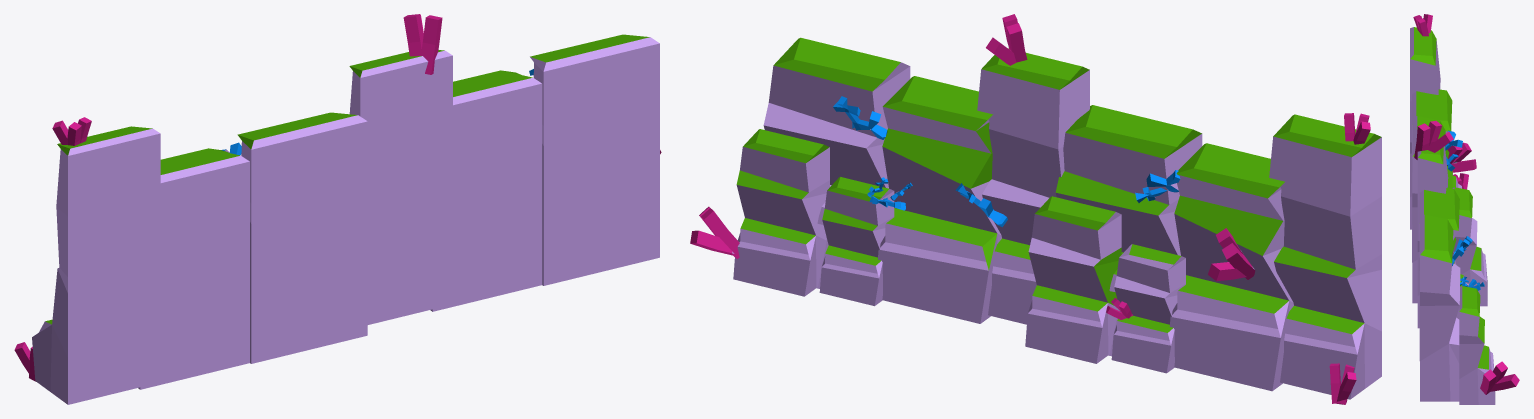
The model's file is cliff3_purple.glb.
3 views of the same model, side by side, from view 1: azimuth 30°, elevation 25°; view 2: azimuth 150°, elevation 25°; view 3: azimuth 270°, elevation 25° (orthographic). The views are drawn at different scales.
Visible parts, largest first — view 1: Cube; view 2: Cube; view 3: Cube.
Part boxes in pixels (x1,y1,x2,y2): Cube: (14, 14, 661, 404); Cube: (690, 14, 1381, 404); Cube: (1410, 14, 1519, 404).
Size of the model in its own units: 179 by 75.87 by 37.3.
